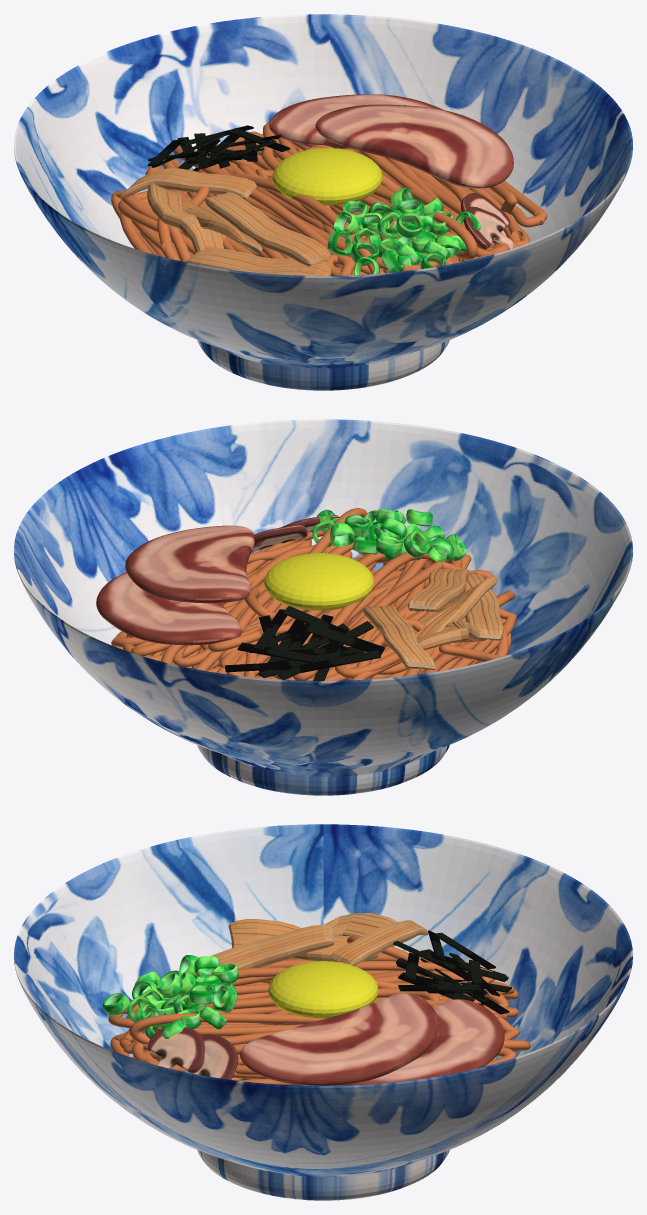
File: Abura-soba.fbx
3 renders of one model, top to bottom at view 1: azimuth 30°, elevation 25°; view 2: azimuth 150°, elevation 25°; view 3: azimuth 270°, elevation 25°, orthographic.
Visible parts, largest first — view 1: 원형.049; view 2: 원형.049; view 3: 원형.049.
Part boxes in pixels (left/top/right/bottom): 원형.049: left=14, top=14, right=632, bottom=390; 원형.049: left=14, top=419, right=632, bottom=795; 원형.049: left=14, top=824, right=632, bottom=1200.
Bounding box in the file's own units: 181 × 63.38 × 181.
